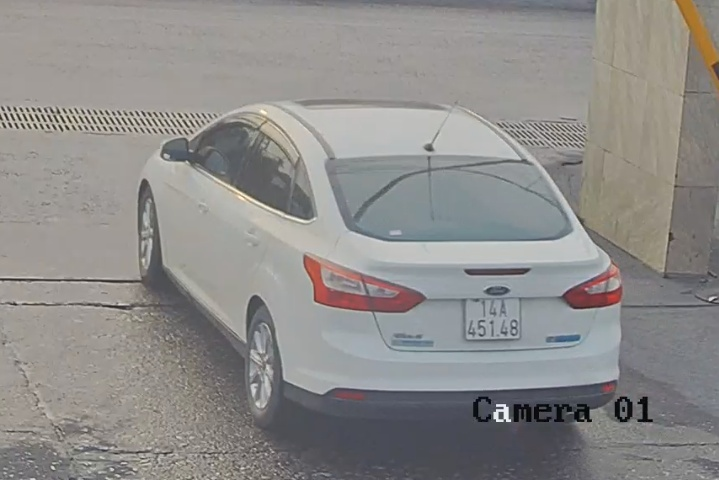vehicle plate: (461, 292, 525, 341)
